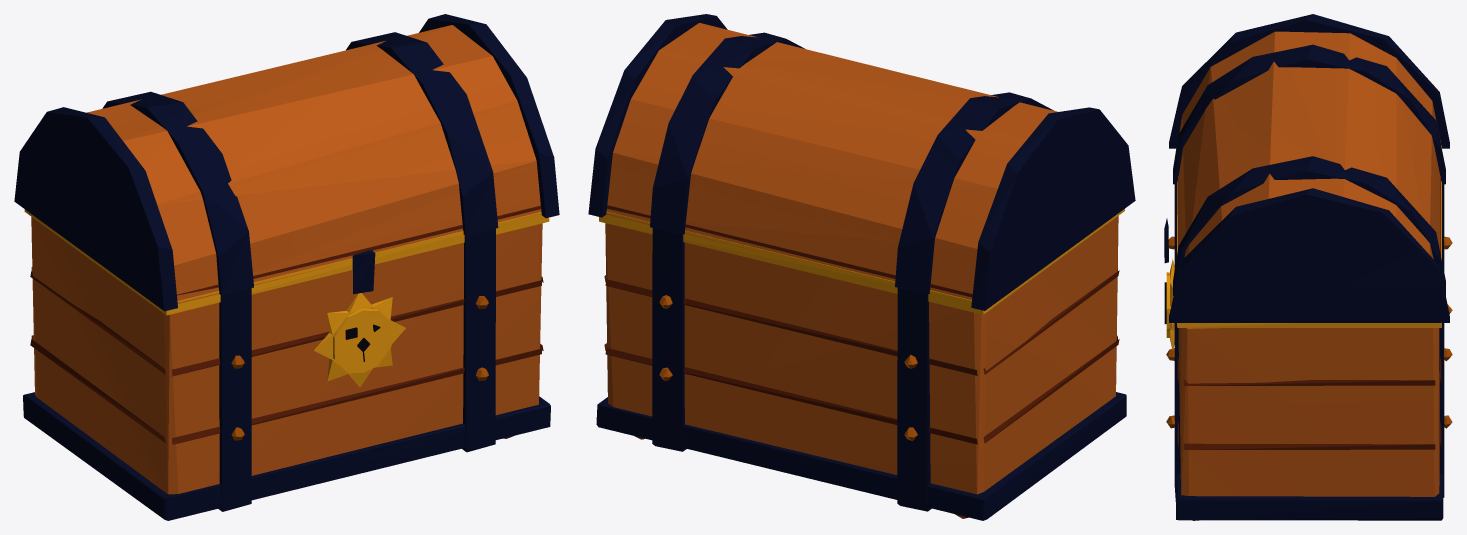
Rendered from tb_chest_small.three-web-toon.lod50.glb.
3 renders of one model, left to right at view 1: azimuth 30°, elevation 25°; view 2: azimuth 150°, elevation 25°; view 3: azimuth 270°, elevation 25°, orthographic. The views are drawn at different scales.
Visible parts, largest first — view 1: chest_body_lod, chest_lid_lod; view 2: chest_body_lod, chest_lid_lod; view 3: chest_lid_lod, chest_body_lod.
Part boxes in pixels (x1=…): chest_body_lod: x1=23, y1=209, x2=550, y2=520; chest_lid_lod: x1=14, y1=14, x2=559, y2=311; chest_body_lod: x1=596, y1=209, x2=1126, y2=520; chest_lid_lod: x1=588, y1=14, x2=1135, y2=310; chest_lid_lod: x1=1164, y1=14, x2=1449, y2=322; chest_body_lod: x1=1164, y1=145, x2=1452, y2=520.
Size of the model in its own units: 1.45 by 1.29 by 0.9795.
